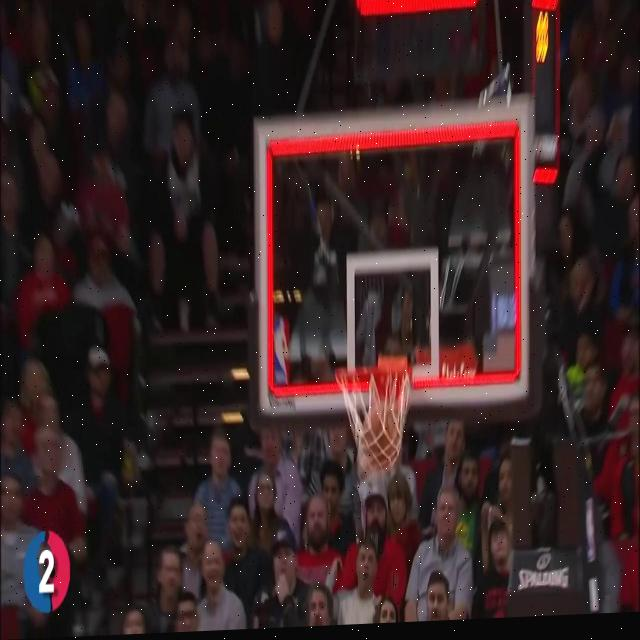basketball: (362, 400, 402, 474)
hoop: (336, 358, 414, 483), (335, 359, 413, 483)
